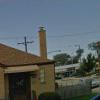Chimney: (31, 16, 56, 61)
